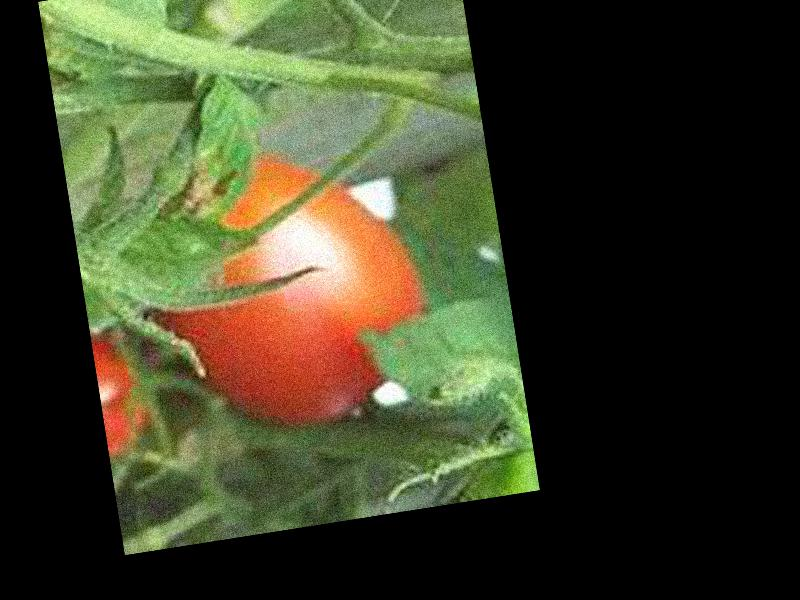Tomato: (146, 139, 441, 442)
